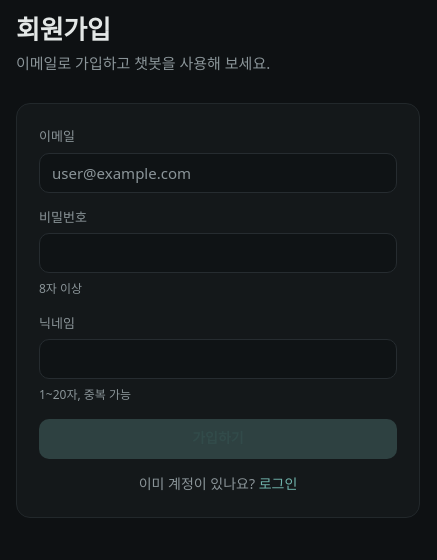
Test: 회원가입 — 클라이언트 검증 › 이메일 형식이 잘못되면 포커스를 벗어난 뒤 오류를 보여준다
The width and height of the screenshot is (437, 560).
Type "not-an-email" into the field labelled "이메일" at (218, 173), box [39, 153, 397, 193]
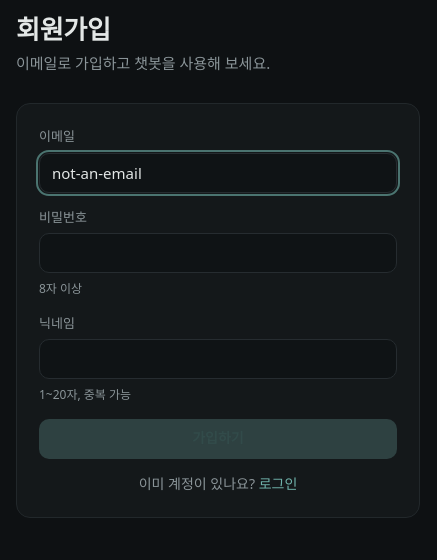
Expected: the text "이메일 형식이 올바르지 않습니다." is not shown
Press Tab
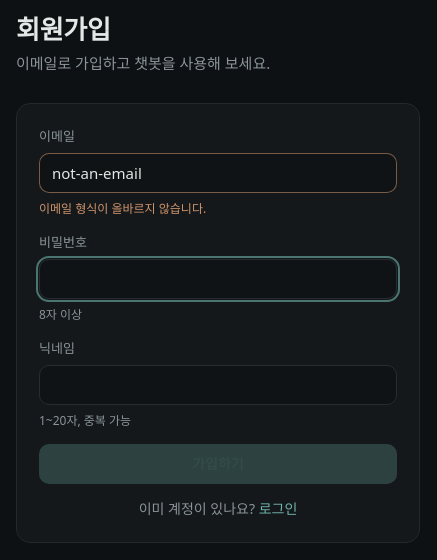
Expected: the text "이메일 형식이 올바르지 않습니다." is shown, [39, 200, 206, 217]
